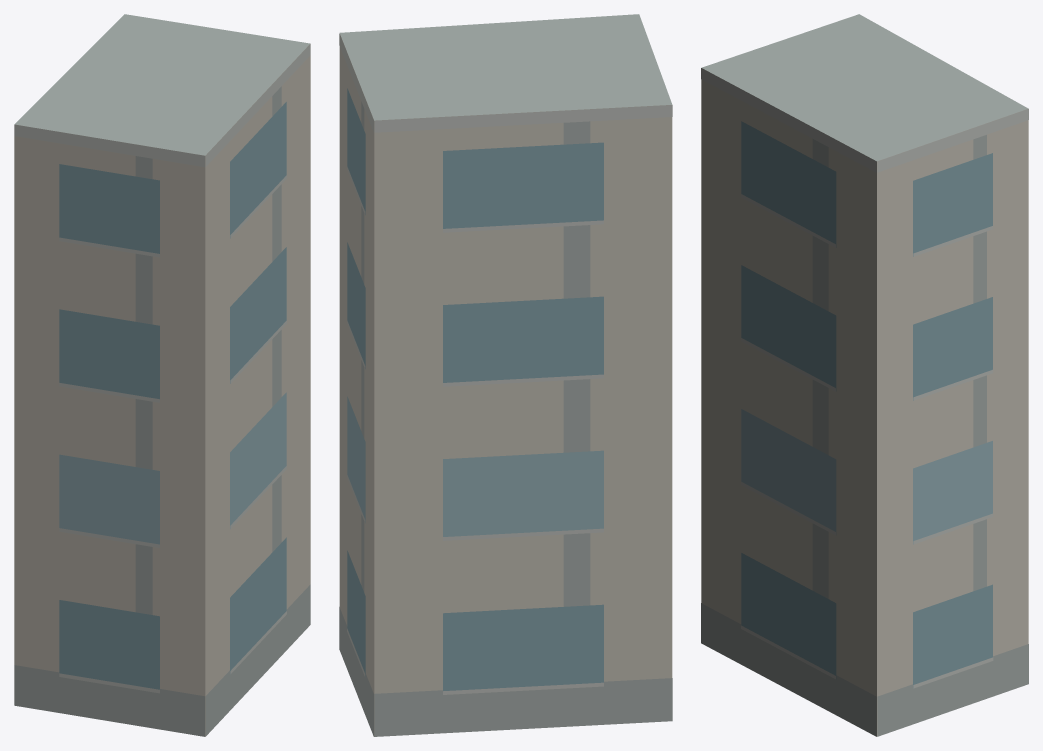
File: survey-upis-32697282.glb
The picture shows the model from 3 angles, left to right: view 1: azimuth 30°, elevation 25°; view 2: azimuth 150°, elevation 25°; view 3: azimuth 270°, elevation 25°; orthographic projection. The views are drawn at different scales.
Parts seen in each view (by area): view 1: survey-upis-32697282.tmp; view 2: survey-upis-32697282.tmp; view 3: survey-upis-32697282.tmp.
Part boxes in pixels (box(x1,y1,x2,y2)): survey-upis-32697282.tmp: box(14, 14, 310, 736); survey-upis-32697282.tmp: box(339, 14, 672, 736); survey-upis-32697282.tmp: box(701, 14, 1028, 736).
Size of the model in its own units: 6.71 by 12.2 by 6.3.
